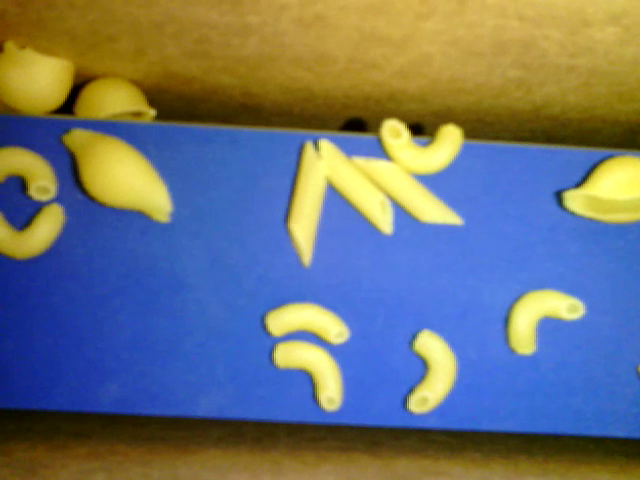elbow: (507, 287, 587, 357), (270, 337, 343, 411), (379, 117, 466, 177), (406, 326, 458, 417), (262, 300, 349, 345), (1, 199, 64, 261), (1, 145, 60, 200)
penne: (316, 134, 394, 235), (354, 154, 466, 224), (282, 137, 326, 266)
shell: (60, 124, 173, 222), (558, 153, 639, 222), (1, 38, 72, 115), (72, 76, 163, 120)
